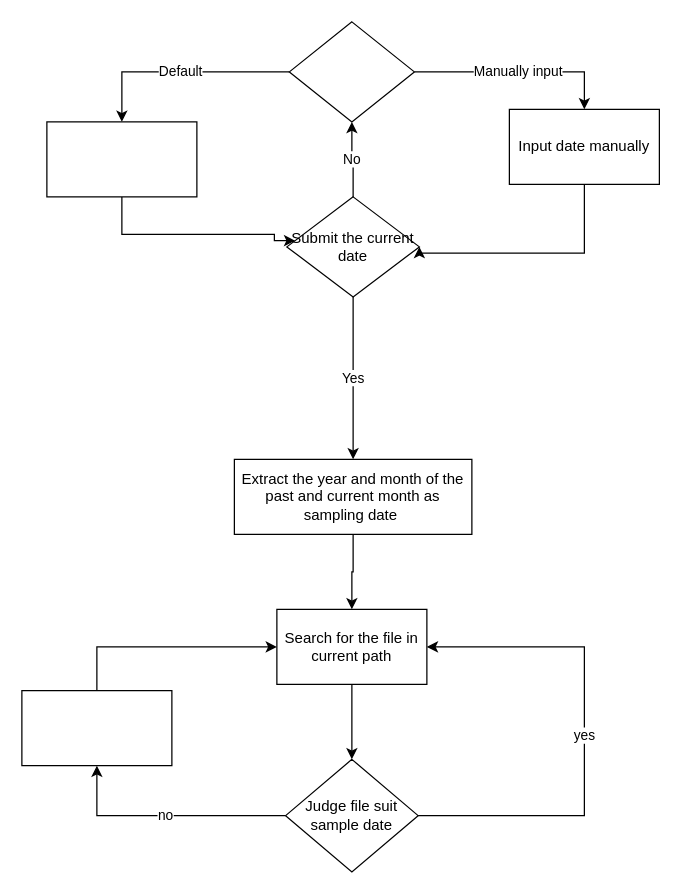
This 681x894 diagram has some shape labels left out. Here are the shapes that lost their labels. From the top down, the centre of each, then its label:
the point at 351,71: Select input option
the point at 121,159: Get date by local configuration
the point at 96,727: Delete the file
